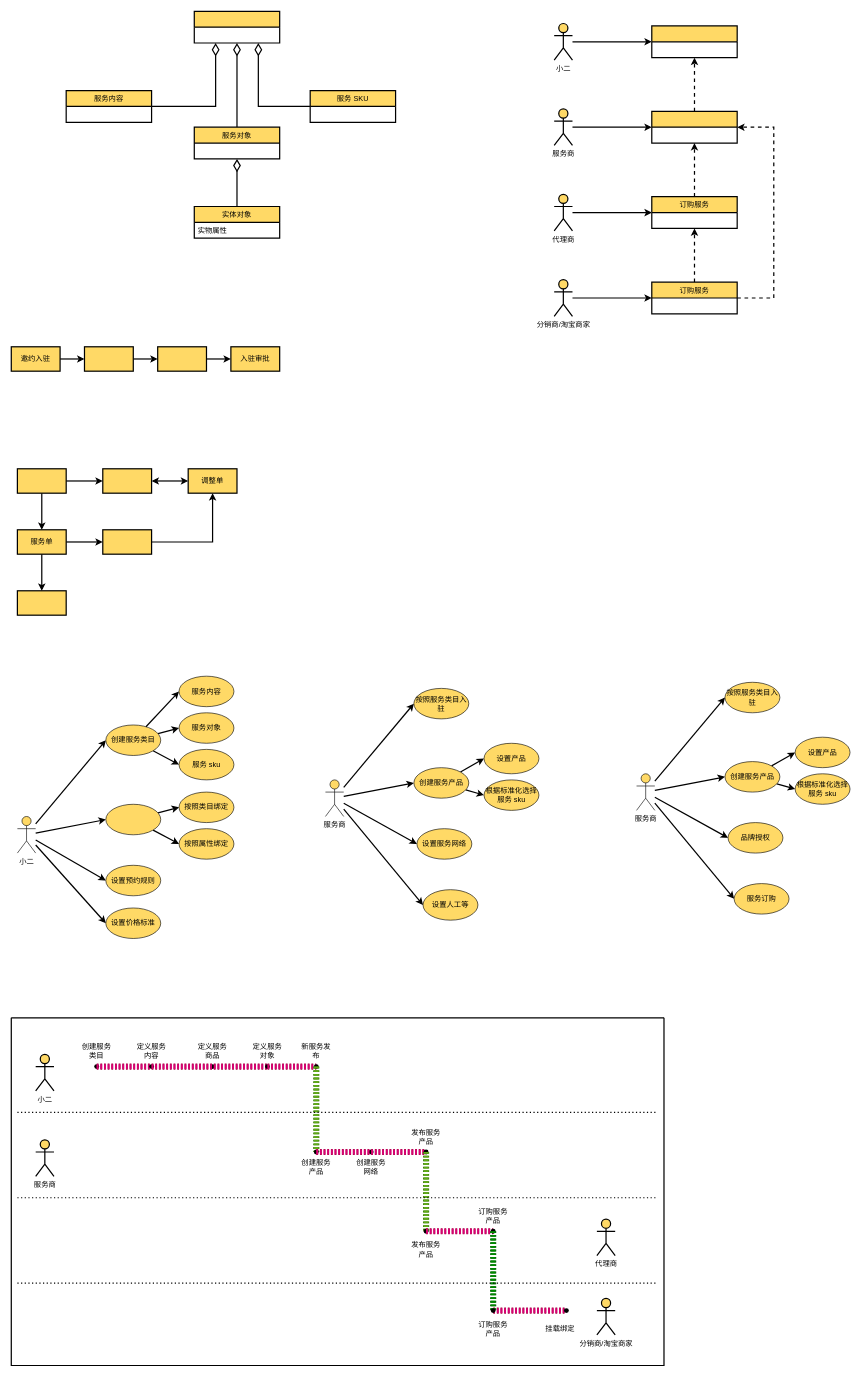
The diagram is 861 pixels wide and 1376 high, and some of its shapes have lost their labels. Each missing label, with the centre of its shape:
创建服务: the point at 694,126
定义服务: the point at 694,41
工单: the point at 127,541
挂载绑定规则: the point at 133,819
提交入驻信息 （执照）: the point at 182,358
服务类目: the point at 236,26
核销单: the point at 41,602
结算单: the point at 127,480
订单: the point at 41,480
选择入驻范围: the point at 109,358
